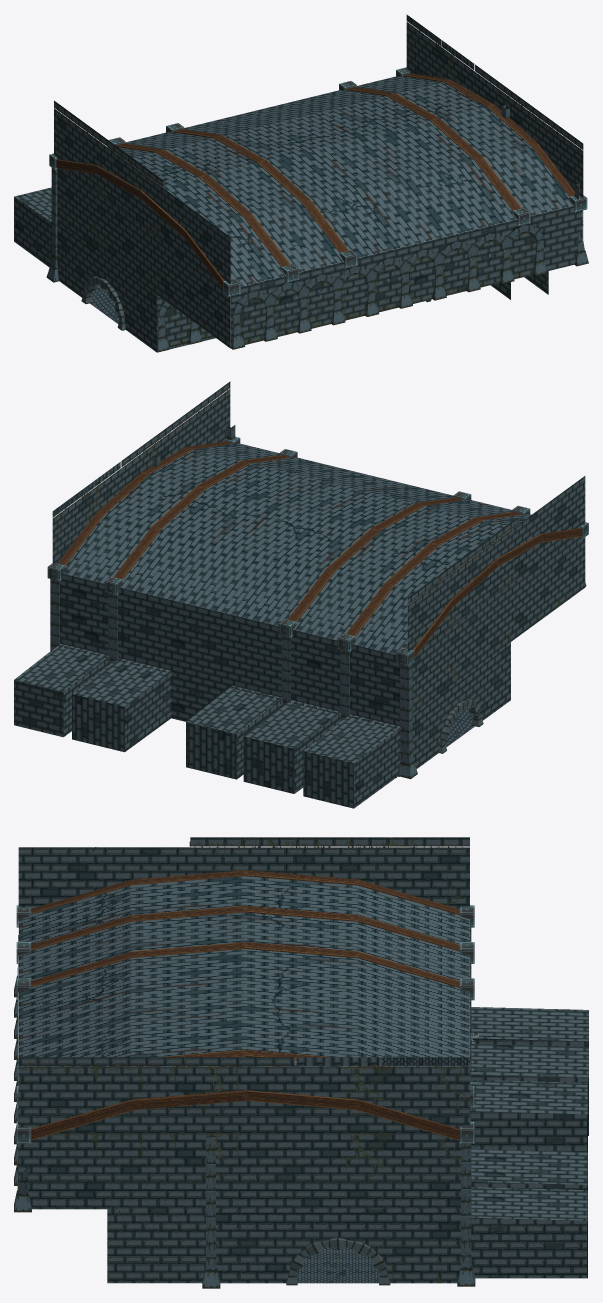
The model's file is Room 1.fbx.
3 views of the same model, one above another, from view 1: azimuth 30°, elevation 25°; view 2: azimuth 150°, elevation 25°; view 3: azimuth 270°, elevation 25° (orthographic). The views are drawn at different scales.
Parts seen in each view (by area): view 1: ceiling, second floor, arch_1, exit, plane_1, cuboid, cuboid_1, cuboid_2, cuboid_4, cuboid_3, plane, corner_4 (+3 smaller); view 2: plane_1, ceiling, second floor, exit, cuboid, cuboid_2, cuboid_1, cuboid_4, corner_4, cuboid_3, stone exit arch, corner_3 (+4 smaller); view 3: second floor, ceiling, plane_1, exit, cuboid_3, cuboid, cuboid_1, cuboid_4, floor, corner_5, corner_3, stone exit arch_1 (+3 smaller).
Boxes of the visible parts, <box> form: ceiling: <box>107,76,573,286</box>; second floor: <box>54,14,583,348</box>; arch_1: <box>231,225,547,349</box>; exit: <box>57,222,156,352</box>; plane_1: <box>14,187,51,267</box>; cuboid: <box>116,143,290,266</box>; cuboid_1: <box>173,129,348,252</box>; cuboid_2: <box>346,87,521,210</box>; cuboid_4: <box>56,159,231,288</box>; cuboid_3: <box>403,73,574,196</box>; plane: <box>157,282,510,347</box>; corner_4: <box>46,168,58,282</box>; plane_1: <box>14,573,400,808</box>; ceiling: <box>62,443,531,654</box>; second floor: <box>52,381,585,713</box>; exit: <box>412,642,510,769</box>; cuboid: <box>346,511,522,636</box>; cuboid_2: <box>113,455,290,579</box>; cuboid_1: <box>287,497,463,621</box>; cuboid_4: <box>405,528,581,658</box>; corner_4: <box>399,663,417,779</box>; cuboid_3: <box>58,441,232,565</box>; stone exit arch: <box>439,699,483,753</box>; corner_3: <box>50,579,59,650</box>; second floor: <box>18,837,469,1283</box>; ceiling: <box>18,876,469,1066</box>; plane_1: <box>470,1007,588,1278</box>; exit: <box>216,1209,460,1283</box>; cuboid_3: <box>31,1090,459,1140</box>; cuboid: <box>31,905,459,951</box>; cuboid_1: <box>31,942,459,987</box>; cuboid_4: <box>31,870,459,914</box>; floor: <box>296,1247,379,1283</box>; corner_5: <box>202,1136,220,1288</box>; corner_3: <box>457,1143,475,1286</box>; stone exit arch_1: <box>286,1238,390,1285</box>.
Size of the model in its own units: 2975 by 1450 by 3170.
